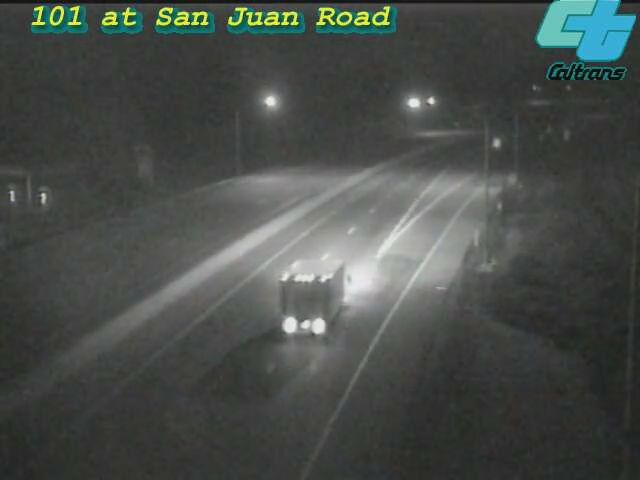vehicle: (277, 250, 357, 330)
